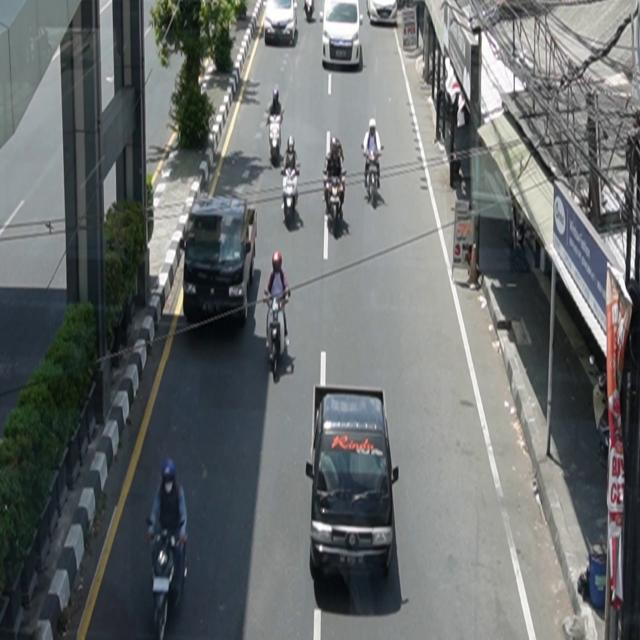car: (307, 386, 401, 583), (322, 1, 363, 70), (265, 1, 299, 47), (367, 1, 398, 26)
truck: (183, 195, 259, 327)
